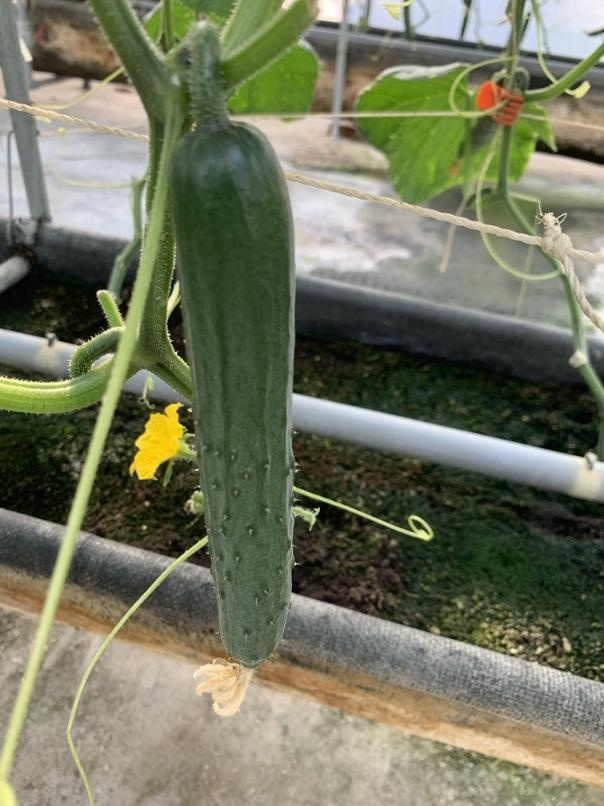mature: (150, 121, 315, 657)
